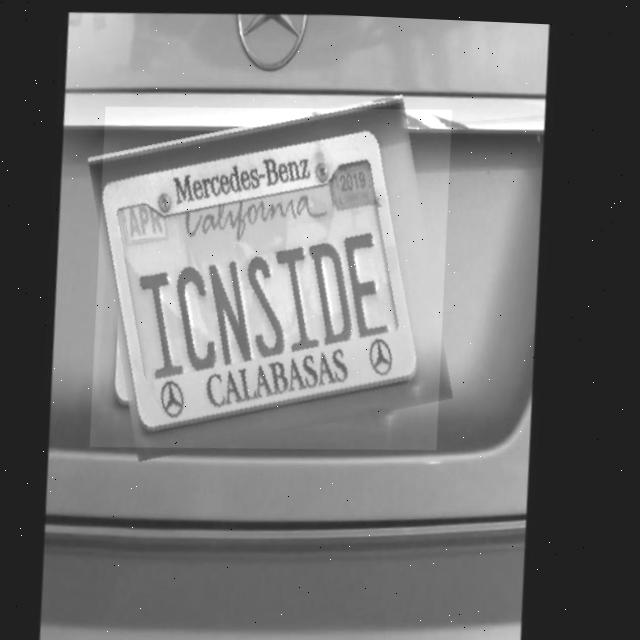LicensePlate: (85, 93, 465, 457)
